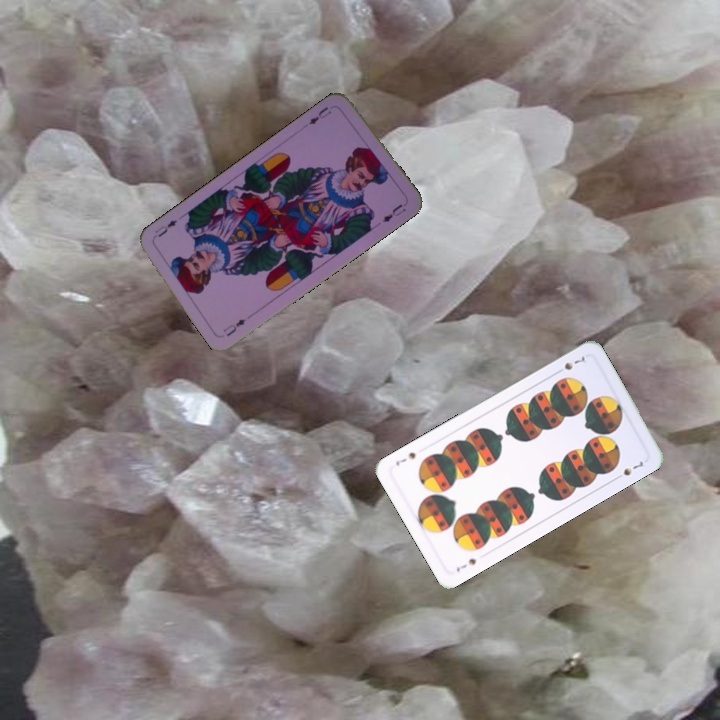EU: (219, 314, 249, 339), (305, 103, 334, 127)
S7: (552, 352, 589, 376), (452, 554, 479, 575)
